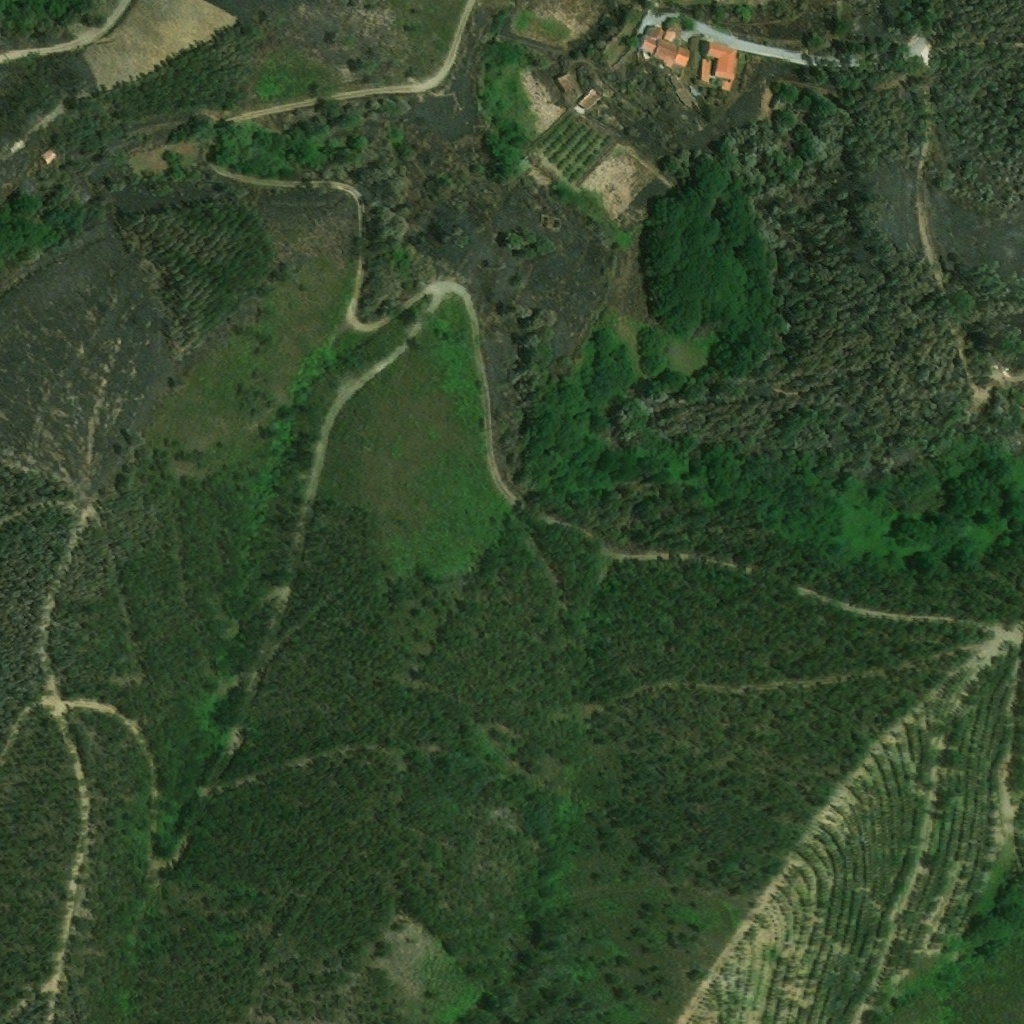0 no-damage: (706, 41, 738, 79), (654, 38, 680, 67), (575, 86, 603, 111), (553, 72, 575, 93), (675, 47, 692, 66), (701, 57, 713, 83), (640, 34, 656, 53), (38, 149, 55, 166), (663, 27, 678, 42), (649, 26, 665, 38), (721, 79, 735, 92)
